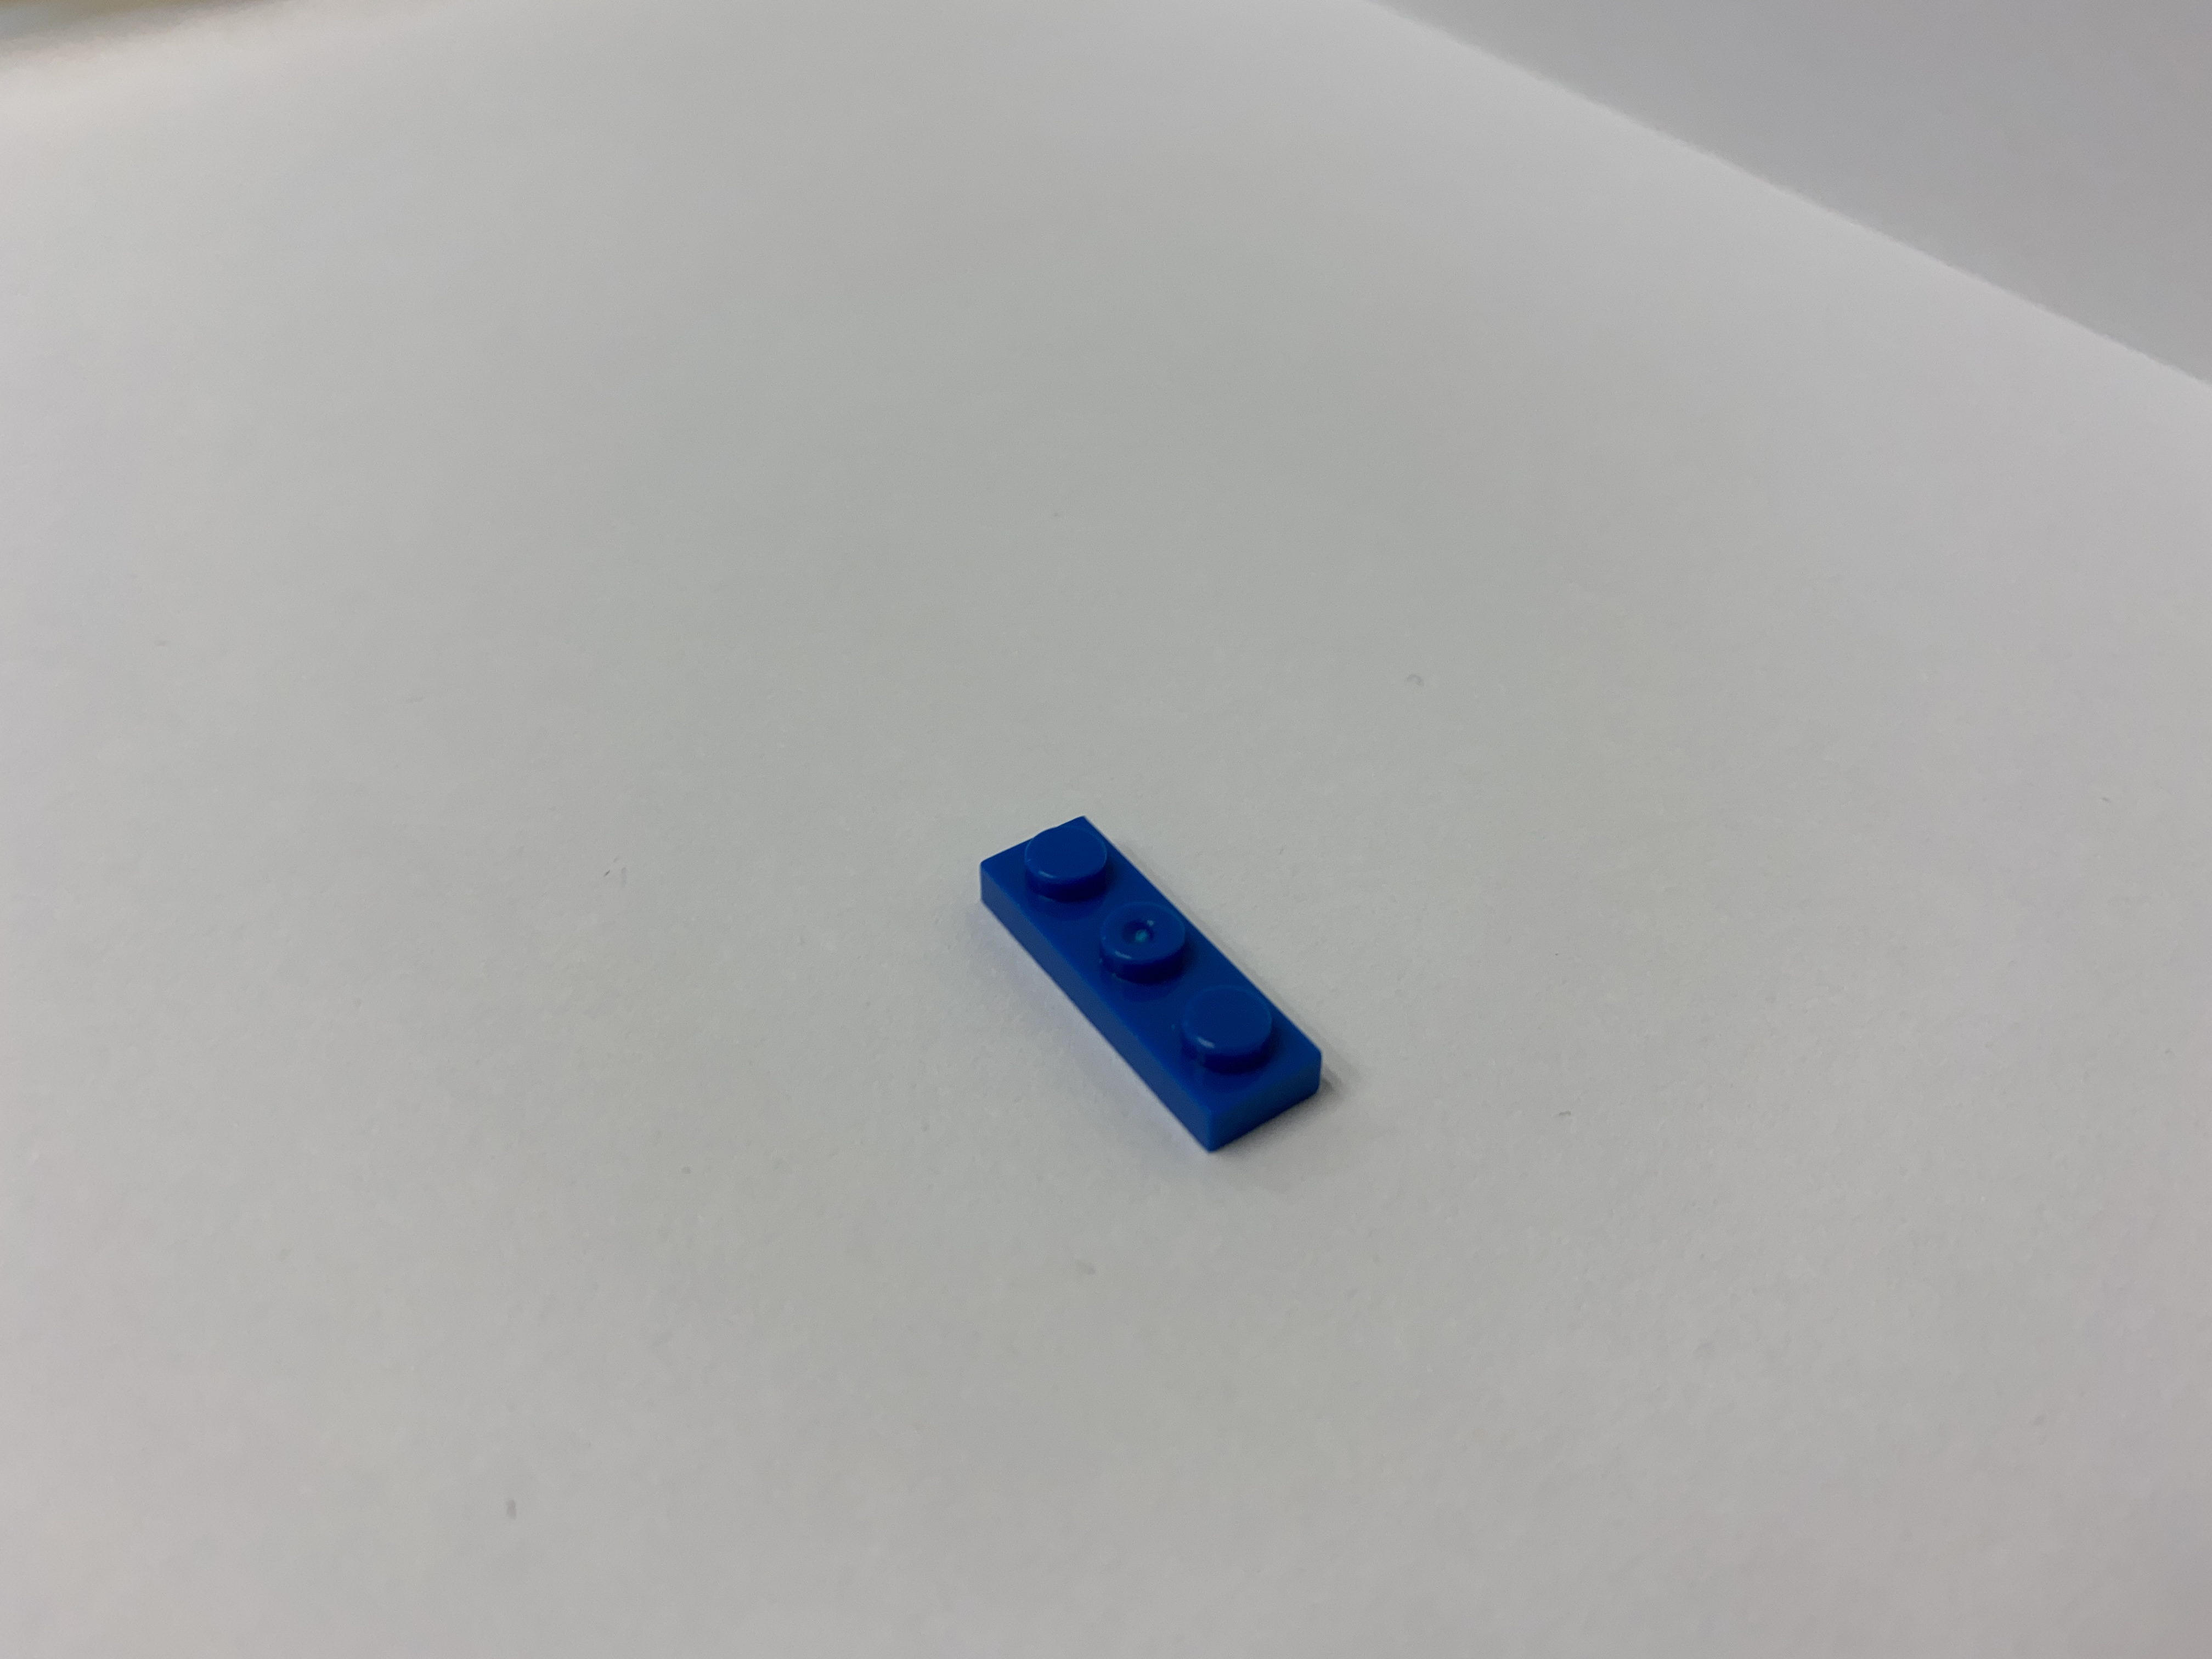car: (902, 762, 1383, 1211)
